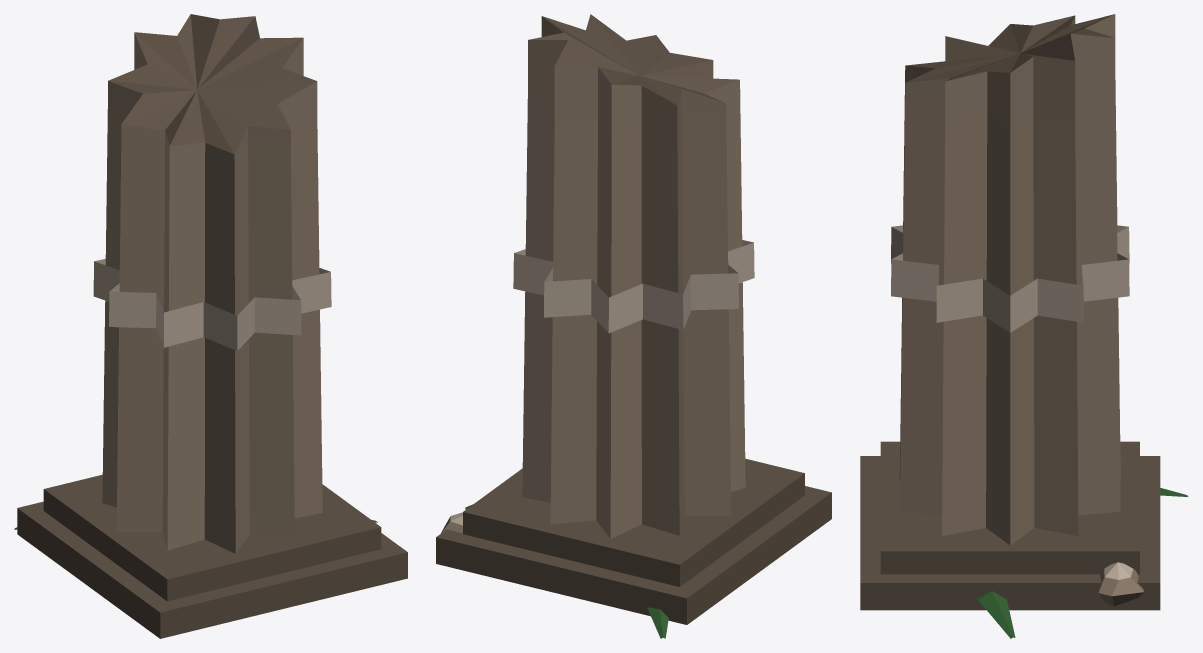
The model's file is RuinColumnBroken.fbx.
3 views of the same model, side by side, from view 1: azimuth 30°, elevation 25°; view 2: azimuth 150°, elevation 25°; view 3: azimuth 270°, elevation 25° (orthographic). The views are drawn at different scales.
Parts seen in each view (by area): view 1: RuinColumnBroken; view 2: RuinColumnBroken; view 3: RuinColumnBroken.
Part boxes in pixels (left/top/right/bottom): RuinColumnBroken: left=14, top=14, right=407, bottom=638; RuinColumnBroken: left=436, top=14, right=831, bottom=638; RuinColumnBroken: left=860, top=14, right=1188, bottom=638.
Bounding box in the file's own units: 138 × 234 × 129.
